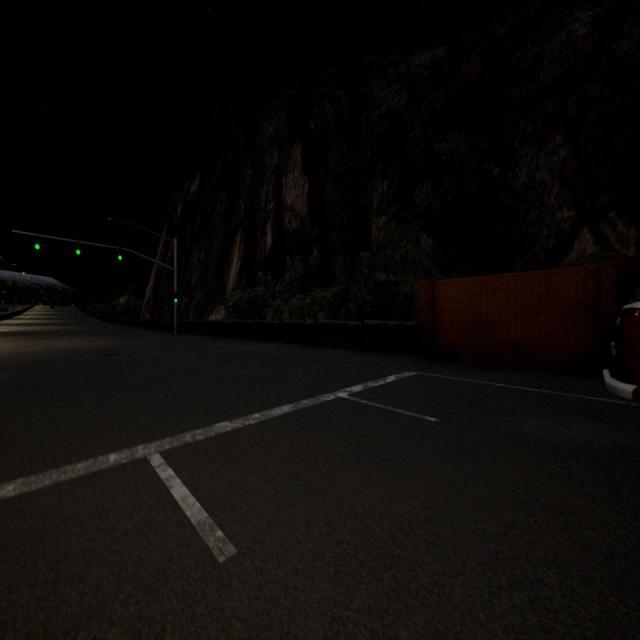Vehicle: (601, 289, 640, 412), (50, 304, 55, 310)
traffic_light: (35, 234, 40, 250), (76, 241, 80, 256), (118, 247, 122, 261), (174, 292, 178, 304)
